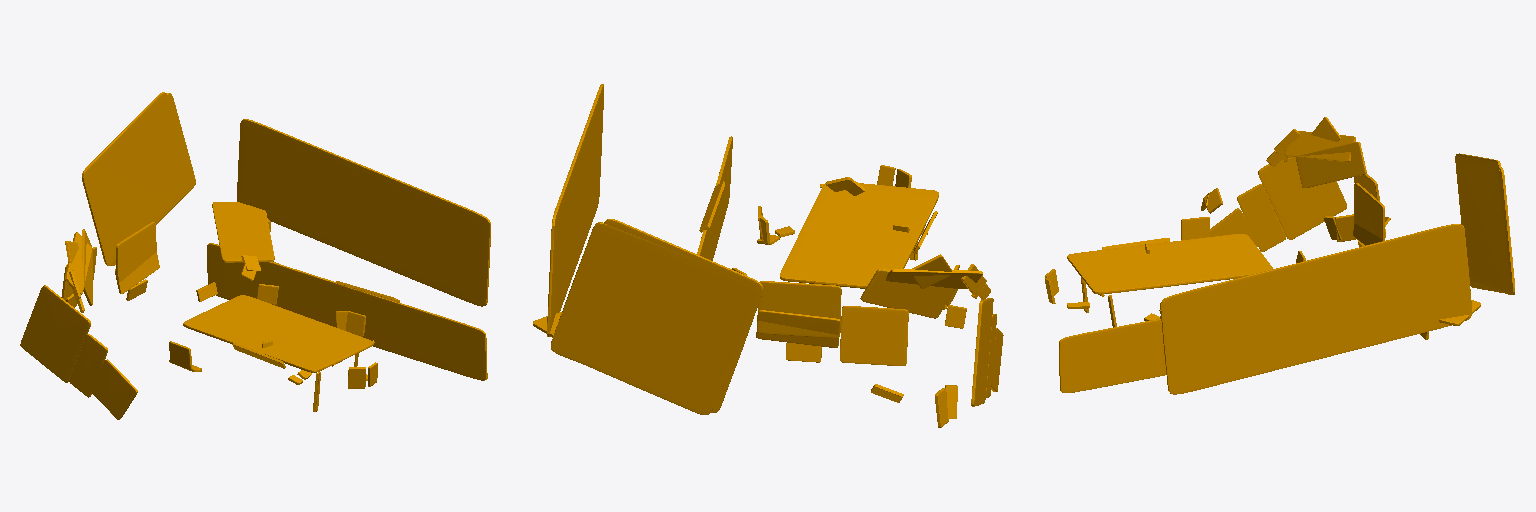
robot.urdf — scene:
<?xml version='1.0' encoding='utf-8'?>
<robot name="scene"><link name="scene_link"><visual><origin xyz="0.000000 0.000000 0.000000" rpy="0.000000 -0.000000 0.000000" /><geometry><mesh filename="part_000.obj" /></geometry></visual><collision><origin xyz="0.000000 0.000000 0.000000" rpy="0.000000 -0.000000 0.000000" /><geometry><mesh filename="part_000.obj" /></geometry></collision><visual><origin xyz="0.000000 0.000000 0.000000" rpy="0.000000 -0.000000 0.000000" /><geometry><mesh filename="part_001.obj" /></geometry></visual><collision><origin xyz="0.000000 0.000000 0.000000" rpy="0.000000 -0.000000 0.000000" /><geometry><mesh filename="part_001.obj" /></geometry></collision><visual><origin xyz="0.000000 0.000000 0.000000" rpy="0.000000 -0.000000 0.000000" /><geometry><mesh filename="part_002.obj" /></geometry></visual><collision><origin xyz="0.000000 0.000000 0.000000" rpy="0.000000 -0.000000 0.000000" /><geometry><mesh filename="part_002.obj" /></geometry></collision><visual><origin xyz="0.000000 0.000000 0.000000" rpy="0.000000 -0.000000 0.000000" /><geometry><mesh filename="part_003.obj" /></geometry></visual><collision><origin xyz="0.000000 0.000000 0.000000" rpy="0.000000 -0.000000 0.000000" /><geometry><mesh filename="part_003.obj" /></geometry></collision><visual><origin xyz="0.000000 0.000000 0.000000" rpy="0.000000 -0.000000 0.000000" /><geometry><mesh filename="part_004.obj" /></geometry></visual><collision><origin xyz="0.000000 0.000000 0.000000" rpy="0.000000 -0.000000 0.000000" /><geometry><mesh filename="part_004.obj" /></geometry></collision><visual><origin xyz="0.000000 0.000000 0.000000" rpy="0.000000 -0.000000 0.000000" /><geometry><mesh filename="part_005.obj" /></geometry></visual><collision><origin xyz="0.000000 0.000000 0.000000" rpy="0.000000 -0.000000 0.000000" /><geometry><mesh filename="part_005.obj" /></geometry></collision><visual><origin xyz="0.000000 0.000000 0.000000" rpy="0.000000 -0.000000 0.000000" /><geometry><mesh filename="part_006.obj" /></geometry></visual><collision><origin xyz="0.000000 0.000000 0.000000" rpy="0.000000 -0.000000 0.000000" /><geometry><mesh filename="part_006.obj" /></geometry></collision><visual><origin xyz="0.000000 0.000000 0.000000" rpy="0.000000 -0.000000 0.000000" /><geometry><mesh filename="part_007.obj" /></geometry></visual><collision><origin xyz="0.000000 0.000000 0.000000" rpy="0.000000 -0.000000 0.000000" /><geometry><mesh filename="part_007.obj" /></geometry></collision><visual><origin xyz="0.000000 0.000000 0.000000" rpy="0.000000 -0.000000 0.000000" /><geometry><mesh filename="part_008.obj" /></geometry></visual><collision><origin xyz="0.000000 0.000000 0.000000" rpy="0.000000 -0.000000 0.000000" /><geometry><mesh filename="part_008.obj" /></geometry></collision><visual><origin xyz="0.000000 0.000000 0.000000" rpy="0.000000 -0.000000 0.000000" /><geometry><mesh filename="part_009.obj" /></geometry></visual><collision><origin xyz="0.000000 0.000000 0.000000" rpy="0.000000 -0.000000 0.000000" /><geometry><mesh filename="part_009.obj" /></geometry></collision><visual><origin xyz="0.000000 0.000000 0.000000" rpy="0.000000 -0.000000 0.000000" /><geometry><mesh filename="part_010.obj" /></geometry></visual><collision><origin xyz="0.000000 0.000000 0.000000" rpy="0.000000 -0.000000 0.000000" /><geometry><mesh filename="part_010.obj" /></geometry></collision><visual><origin xyz="0.000000 0.000000 0.000000" rpy="0.000000 -0.000000 0.000000" /><geometry><mesh filename="part_011.obj" /></geometry></visual><collision><origin xyz="0.000000 0.000000 0.000000" rpy="0.000000 -0.000000 0.000000" /><geometry><mesh filename="part_011.obj" /></geometry></collision><visual><origin xyz="0.000000 0.000000 0.000000" rpy="0.000000 -0.000000 0.000000" /><geometry><mesh filename="part_012.obj" /></geometry></visual><collision><origin xyz="0.000000 0.000000 0.000000" rpy="0.000000 -0.000000 0.000000" /><geometry><mesh filename="part_012.obj" /></geometry></collision><visual><origin xyz="0.000000 0.000000 0.000000" rpy="0.000000 -0.000000 0.000000" /><geometry><mesh filename="part_013.obj" /></geometry></visual><collision><origin xyz="0.000000 0.000000 0.000000" rpy="0.000000 -0.000000 0.000000" /><geometry><mesh filename="part_013.obj" /></geometry></collision><visual><origin xyz="0.000000 0.000000 0.000000" rpy="0.000000 -0.000000 0.000000" /><geometry><mesh filename="part_014.obj" /></geometry></visual><collision><origin xyz="0.000000 0.000000 0.000000" rpy="0.000000 -0.000000 0.000000" /><geometry><mesh filename="part_014.obj" /></geometry></collision><visual><origin xyz="0.000000 0.000000 0.000000" rpy="0.000000 -0.000000 0.000000" /><geometry><mesh filename="part_015.obj" /></geometry></visual><collision><origin xyz="0.000000 0.000000 0.000000" rpy="0.000000 -0.000000 0.000000" /><geometry><mesh filename="part_015.obj" /></geometry></collision><visual><origin xyz="0.000000 0.000000 0.000000" rpy="0.000000 -0.000000 0.000000" /><geometry><mesh filename="part_016.obj" /></geometry></visual><collision><origin xyz="0.000000 0.000000 0.000000" rpy="0.000000 -0.000000 0.000000" /><geometry><mesh filename="part_016.obj" /></geometry></collision><visual><origin xyz="0.000000 0.000000 0.000000" rpy="0.000000 -0.000000 0.000000" /><geometry><mesh filename="part_017.obj" /></geometry></visual><collision><origin xyz="0.000000 0.000000 0.000000" rpy="0.000000 -0.000000 0.000000" /><geometry><mesh filename="part_017.obj" /></geometry></collision><visual><origin xyz="0.000000 0.000000 0.000000" rpy="0.000000 -0.000000 0.000000" /><geometry><mesh filename="part_018.obj" /></geometry></visual><collision><origin xyz="0.000000 0.000000 0.000000" rpy="0.000000 -0.000000 0.000000" /><geometry><mesh filename="part_018.obj" /></geometry></collision><visual><origin xyz="0.000000 0.000000 0.000000" rpy="0.000000 -0.000000 0.000000" /><geometry><mesh filename="part_019.obj" /></geometry></visual><collision><origin xyz="0.000000 0.000000 0.000000" rpy="0.000000 -0.000000 0.000000" /><geometry><mesh filename="part_019.obj" /></geometry></collision><visual><origin xyz="0.000000 0.000000 0.000000" rpy="0.000000 -0.000000 0.000000" /><geometry><mesh filename="part_020.obj" /></geometry></visual><collision><origin xyz="0.000000 0.000000 0.000000" rpy="0.000000 -0.000000 0.000000" /><geometry><mesh filename="part_020.obj" /></geometry></collision><visual><origin xyz="0.000000 0.000000 0.000000" rpy="0.000000 -0.000000 0.000000" /><geometry><mesh filename="part_021.obj" /></geometry></visual><collision><origin xyz="0.000000 0.000000 0.000000" rpy="0.000000 -0.000000 0.000000" /><geometry><mesh filename="part_021.obj" /></geometry></collision><visual><origin xyz="0.000000 0.000000 0.000000" rpy="0.000000 -0.000000 0.000000" /><geometry><mesh filename="part_022.obj" /></geometry></visual><collision><origin xyz="0.000000 0.000000 0.000000" rpy="0.000000 -0.000000 0.000000" /><geometry><mesh filename="part_022.obj" /></geometry></collision><visual><origin xyz="0.000000 0.000000 0.000000" rpy="0.000000 -0.000000 0.000000" /><geometry><mesh filename="part_023.obj" /></geometry></visual><collision><origin xyz="0.000000 0.000000 0.000000" rpy="0.000000 -0.000000 0.000000" /><geometry><mesh filename="part_023.obj" /></geometry></collision><visual><origin xyz="0.000000 0.000000 0.000000" rpy="0.000000 -0.000000 0.000000" /><geometry><mesh filename="part_024.obj" /></geometry></visual><collision><origin xyz="0.000000 0.000000 0.000000" rpy="0.000000 -0.000000 0.000000" /><geometry><mesh filename="part_024.obj" /></geometry></collision><visual><origin xyz="0.000000 0.000000 0.000000" rpy="0.000000 -0.000000 0.000000" /><geometry><mesh filename="part_025.obj" /></geometry></visual><collision><origin xyz="0.000000 0.000000 0.000000" rpy="0.000000 -0.000000 0.000000" /><geometry><mesh filename="part_025.obj" /></geometry></collision><visual><origin xyz="0.000000 0.000000 0.000000" rpy="0.000000 -0.000000 0.000000" /><geometry><mesh filename="part_026.obj" /></geometry></visual><collision><origin xyz="0.000000 0.000000 0.000000" rpy="0.000000 -0.000000 0.000000" /><geometry><mesh filename="part_026.obj" /></geometry></collision><visual><origin xyz="0.000000 0.000000 0.000000" rpy="0.000000 -0.000000 0.000000" /><geometry><mesh filename="part_027.obj" /></geometry></visual><collision><origin xyz="0.000000 0.000000 0.000000" rpy="0.000000 -0.000000 0.000000" /><geometry><mesh filename="part_027.obj" /></geometry></collision><visual><origin xyz="0.000000 0.000000 0.000000" rpy="0.000000 -0.000000 0.000000" /><geometry><mesh filename="part_028.obj" /></geometry></visual><collision><origin xyz="0.000000 0.000000 0.000000" rpy="0.000000 -0.000000 0.000000" /><geometry><mesh filename="part_028.obj" /></geometry></collision><visual><origin xyz="0.000000 0.000000 0.000000" rpy="0.000000 -0.000000 0.000000" /><geometry><mesh filename="part_029.obj" /></geometry></visual><collision><origin xyz="0.000000 0.000000 0.000000" rpy="0.000000 -0.000000 0.000000" /><geometry><mesh filename="part_029.obj" /></geometry></collision><visual><origin xyz="0.000000 0.000000 0.000000" rpy="0.000000 -0.000000 0.000000" /><geometry><mesh filename="part_030.obj" /></geometry></visual><collision><origin xyz="0.000000 0.000000 0.000000" rpy="0.000000 -0.000000 0.000000" /><geometry><mesh filename="part_030.obj" /></geometry></collision><visual><origin xyz="0.000000 0.000000 0.000000" rpy="0.000000 -0.000000 0.000000" /><geometry><mesh filename="part_031.obj" /></geometry></visual><collision><origin xyz="0.000000 0.000000 0.000000" rpy="0.000000 -0.000000 0.000000" /><geometry><mesh filename="part_031.obj" /></geometry></collision><visual><origin xyz="0.000000 0.000000 0.000000" rpy="0.000000 -0.000000 0.000000" /><geometry><mesh filename="part_032.obj" /></geometry></visual><collision><origin xyz="0.000000 0.000000 0.000000" rpy="0.000000 -0.000000 0.000000" /><geometry><mesh filename="part_032.obj" /></geometry></collision><visual><origin xyz="0.000000 0.000000 0.000000" rpy="0.000000 -0.000000 0.000000" /><geometry><mesh filename="part_033.obj" /></geometry></visual><collision><origin xyz="0.000000 0.000000 0.000000" rpy="0.000000 -0.000000 0.000000" /><geometry><mesh filename="part_033.obj" /></geometry></collision><visual><origin xyz="0.000000 0.000000 0.000000" rpy="0.000000 -0.000000 0.000000" /><geometry><mesh filename="part_034.obj" /></geometry></visual><collision><origin xyz="0.000000 0.000000 0.000000" rpy="0.000000 -0.000000 0.000000" /><geometry><mesh filename="part_034.obj" /></geometry></collision><visual><origin xyz="0.000000 0.000000 0.000000" rpy="0.000000 -0.000000 0.000000" /><geometry><mesh filename="part_035.obj" /></geometry></visual><collision><origin xyz="0.000000 0.000000 0.000000" rpy="0.000000 -0.000000 0.000000" /><geometry><mesh filename="part_035.obj" /></geometry></collision><visual><origin xyz="0.000000 0.000000 0.000000" rpy="0.000000 -0.000000 0.000000" /><geometry><mesh filename="part_036.obj" /></geometry></visual><collision><origin xyz="0.000000 0.000000 0.000000" rpy="0.000000 -0.000000 0.000000" /><geometry><mesh filename="part_036.obj" /></geometry></collision><visual><origin xyz="0.000000 0.000000 0.000000" rpy="0.000000 -0.000000 0.000000" /><geometry><mesh filename="part_037.obj" /></geometry></visual><collision><origin xyz="0.000000 0.000000 0.000000" rpy="0.000000 -0.000000 0.000000" /><geometry><mesh filename="part_037.obj" /></geometry></collision><visual><origin xyz="0.000000 0.000000 0.000000" rpy="0.000000 -0.000000 0.000000" /><geometry><mesh filename="part_038.obj" /></geometry></visual><collision><origin xyz="0.000000 0.000000 0.000000" rpy="0.000000 -0.000000 0.000000" /><geometry><mesh filename="part_038.obj" /></geometry></collision><visual><origin xyz="0.000000 0.000000 0.000000" rpy="0.000000 -0.000000 0.000000" /><geometry><mesh filename="part_039.obj" /></geometry></visual><collision><origin xyz="0.000000 0.000000 0.000000" rpy="0.000000 -0.000000 0.000000" /><geometry><mesh filename="part_039.obj" /></geometry></collision><visual><origin xyz="0.000000 0.000000 0.000000" rpy="0.000000 -0.000000 0.000000" /><geometry><mesh filename="part_040.obj" /></geometry></visual><collision><origin xyz="0.000000 0.000000 0.000000" rpy="0.000000 -0.000000 0.000000" /><geometry><mesh filename="part_040.obj" /></geometry></collision><visual><origin xyz="0.000000 0.000000 0.000000" rpy="0.000000 -0.000000 0.000000" /><geometry><mesh filename="part_041.obj" /></geometry></visual><collision><origin xyz="0.000000 0.000000 0.000000" rpy="0.000000 -0.000000 0.000000" /><geometry><mesh filename="part_041.obj" /></geometry></collision><visual><origin xyz="0.000000 0.000000 0.000000" rpy="0.000000 -0.000000 0.000000" /><geometry><mesh filename="part_042.obj" /></geometry></visual><collision><origin xyz="0.000000 0.000000 0.000000" rpy="0.000000 -0.000000 0.000000" /><geometry><mesh filename="part_042.obj" /></geometry></collision><visual><origin xyz="0.000000 0.000000 0.000000" rpy="0.000000 -0.000000 0.000000" /><geometry><mesh filename="part_043.obj" /></geometry></visual><collision><origin xyz="0.000000 0.000000 0.000000" rpy="0.000000 -0.000000 0.000000" /><geometry><mesh filename="part_043.obj" /></geometry></collision><visual><origin xyz="0.000000 0.000000 0.000000" rpy="0.000000 -0.000000 0.000000" /><geometry><mesh filename="part_044.obj" /></geometry></visual><collision><origin xyz="0.000000 0.000000 0.000000" rpy="0.000000 -0.000000 0.000000" /><geometry><mesh filename="part_044.obj" /></geometry></collision><visual><origin xyz="0.000000 0.000000 0.000000" rpy="0.000000 -0.000000 0.000000" /><geometry><mesh filename="part_045.obj" /></geometry></visual><collision><origin xyz="0.000000 0.000000 0.000000" rpy="0.000000 -0.000000 0.000000" /><geometry><mesh filename="part_045.obj" /></geometry></collision><visual><origin xyz="0.000000 0.000000 0.000000" rpy="0.000000 -0.000000 0.000000" /><geometry><mesh filename="part_046.obj" /></geometry></visual><collision><origin xyz="0.000000 0.000000 0.000000" rpy="0.000000 -0.000000 0.000000" /><geometry><mesh filename="part_046.obj" /></geometry></collision><visual><origin xyz="0.000000 0.000000 0.000000" rpy="0.000000 -0.000000 0.000000" /><geometry><mesh filename="part_047.obj" /></geometry></visual><collision><origin xyz="0.000000 0.000000 0.000000" rpy="0.000000 -0.000000 0.000000" /><geometry><mesh filename="part_047.obj" /></geometry></collision><visual><origin xyz="0.000000 0.000000 0.000000" rpy="0.000000 -0.000000 0.000000" /><geometry><mesh filename="part_048.obj" /></geometry></visual><collision><origin xyz="0.000000 0.000000 0.000000" rpy="0.000000 -0.000000 0.000000" /><geometry><mesh filename="part_048.obj" /></geometry></collision><visual><origin xyz="0.000000 0.000000 0.000000" rpy="0.000000 -0.000000 0.000000" /><geometry><mesh filename="part_049.obj" /></geometry></visual><collision><origin xyz="0.000000 0.000000 0.000000" rpy="0.000000 -0.000000 0.000000" /><geometry><mesh filename="part_049.obj" /></geometry></collision><visual><origin xyz="0.000000 0.000000 0.000000" rpy="0.000000 -0.000000 0.000000" /><geometry><mesh filename="part_050.obj" /></geometry></visual><collision><origin xyz="0.000000 0.000000 0.000000" rpy="0.000000 -0.000000 0.000000" /><geometry><mesh filename="part_050.obj" /></geometry></collision><visual><origin xyz="0.000000 0.000000 0.000000" rpy="0.000000 -0.000000 0.000000" /><geometry><mesh filename="part_051.obj" /></geometry></visual><collision><origin xyz="0.000000 0.000000 0.000000" rpy="0.000000 -0.000000 0.000000" /><geometry><mesh filename="part_051.obj" /></geometry></collision></link></robot>

--- Facts derived from the render (not from the file) ---
The picture shows the robot from 3 angles, left to right: view 1: azimuth 30°, elevation 25°; view 2: azimuth 150°, elevation 25°; view 3: azimuth 270°, elevation 25°; orthographic projection.
Robot: scene — 1 links, 0 joints (none); root link scene_link; default pose: all joints at 0.
Links seen in each view (by area): view 1: scene_link; view 2: scene_link; view 3: scene_link.
Link boxes in pixels (left/top/right/bottom): scene_link: left=20, top=92, right=490, bottom=419; scene_link: left=533, top=84, right=1003, bottom=427; scene_link: left=1045, top=117, right=1514, bottom=394.
Size in the robot's own frame: 6.36 by 6.46 by 3.01 metres.
52 mesh visuals loaded from 52 distinct referenced files (52 OBJ).